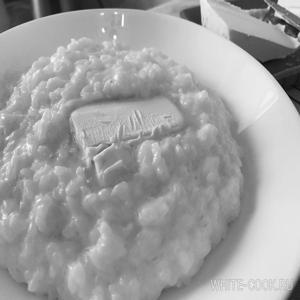porridge: (9, 40, 233, 285)
